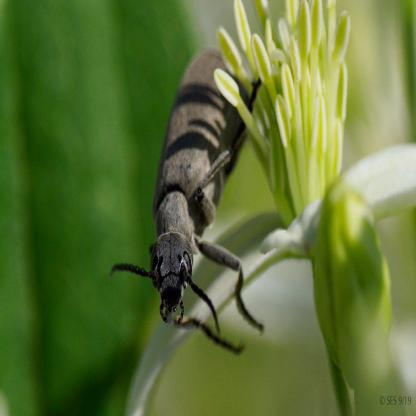beetle: (116, 29, 276, 354)
